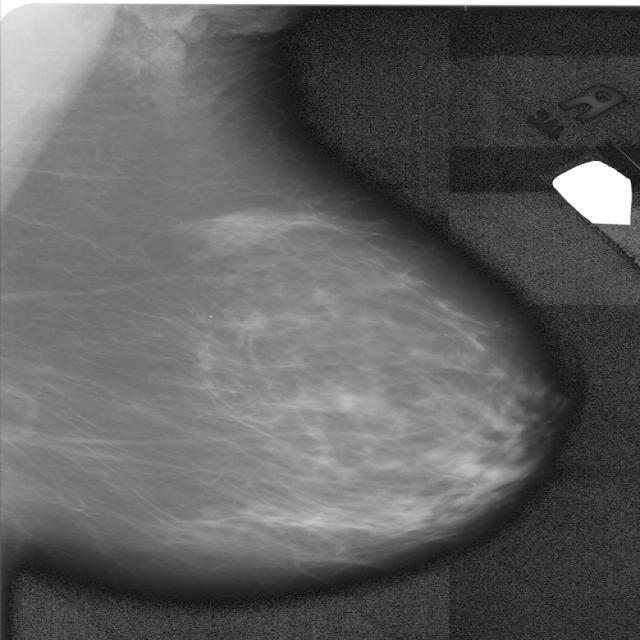tumour: (226, 310, 272, 332)
